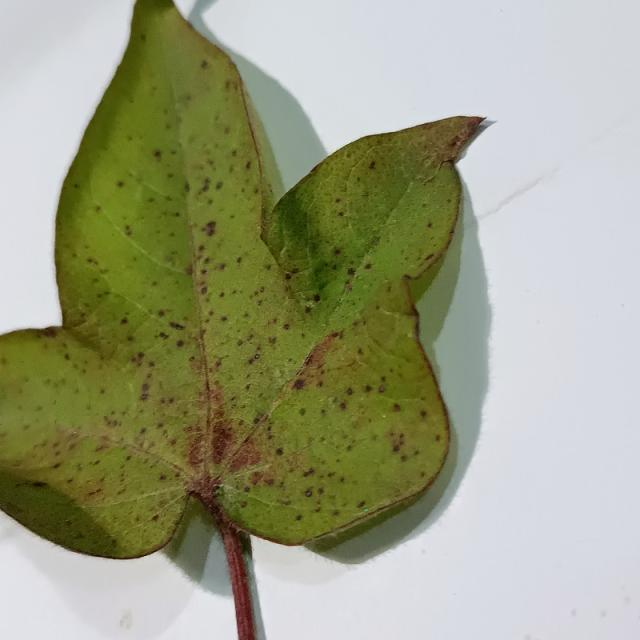Bacterial_Blight: (40, 424, 102, 468), (299, 336, 339, 374), (206, 417, 239, 462), (310, 255, 339, 297), (444, 123, 483, 154), (337, 265, 361, 302), (201, 216, 220, 239), (389, 432, 406, 453), (119, 610, 133, 630), (421, 172, 439, 185), (131, 351, 146, 366), (303, 297, 318, 310), (42, 326, 58, 338), (104, 416, 120, 428), (439, 159, 454, 171), (200, 177, 211, 192), (292, 378, 305, 390), (255, 295, 265, 309), (169, 321, 184, 330), (87, 488, 102, 497), (140, 382, 150, 395), (31, 480, 47, 488), (263, 476, 275, 486), (303, 468, 315, 478), (198, 328, 207, 341), (263, 263, 274, 273), (450, 138, 460, 148), (86, 257, 97, 266), (225, 79, 234, 90), (157, 332, 169, 340), (346, 267, 356, 276), (153, 149, 162, 159), (200, 59, 209, 69), (175, 339, 185, 348), (251, 353, 260, 363), (424, 253, 435, 261), (392, 403, 401, 412), (338, 401, 347, 410), (275, 447, 284, 456), (213, 360, 221, 370), (368, 161, 377, 169), (333, 248, 342, 256), (378, 384, 386, 393), (215, 181, 223, 190), (364, 384, 373, 392), (253, 416, 261, 425), (419, 409, 427, 418), (298, 407, 306, 416), (600, 609, 608, 618), (124, 225, 131, 235), (313, 294, 321, 302), (304, 489, 312, 497), (157, 309, 165, 317), (346, 387, 354, 395), (268, 336, 276, 344), (120, 317, 128, 325), (151, 514, 159, 522), (116, 181, 125, 188), (63, 352, 70, 361), (186, 266, 193, 275), (357, 501, 366, 508), (183, 183, 190, 192), (140, 33, 147, 42), (571, 608, 578, 617), (625, 596, 632, 605), (285, 272, 292, 280), (364, 263, 372, 270), (200, 286, 207, 294), (231, 149, 238, 157), (294, 514, 302, 521), (327, 471, 335, 478), (139, 427, 147, 434), (53, 462, 61, 469), (245, 161, 251, 170), (198, 244, 205, 251), (203, 257, 210, 264), (207, 310, 214, 317), (283, 323, 290, 330), (159, 474, 166, 481), (243, 486, 250, 493), (435, 434, 441, 442), (426, 222, 433, 228), (221, 316, 228, 322), (337, 211, 344, 217), (95, 205, 101, 212), (219, 291, 225, 298), (188, 356, 195, 362), (168, 397, 175, 403), (148, 197, 155, 203), (259, 286, 265, 293), (236, 257, 242, 263), (335, 198, 341, 204), (231, 403, 237, 409), (73, 183, 79, 189), (524, 636, 532, 640), (363, 508, 369, 512)
Cotton: (0, 0, 481, 639)
